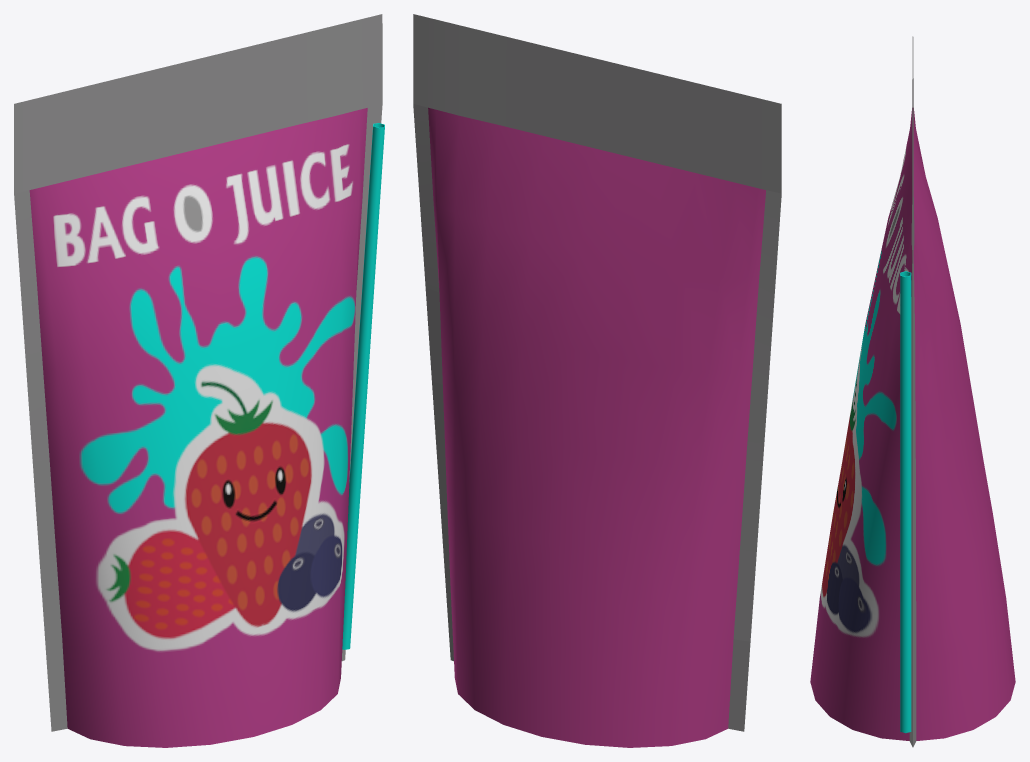
Rendered from Juice Bag Berries.fbx.
3 renders of one model, left to right at view 1: azimuth 30°, elevation 25°; view 2: azimuth 150°, elevation 25°; view 3: azimuth 270°, elevation 25°, orthographic. The views are drawn at different scales.
Visible parts, largest first — view 1: pCylinder56; view 2: pCylinder56; view 3: pCylinder56.
Part boxes in pixels (x1,y1,x2,y2): pCylinder56: (14, 14, 384, 747); pCylinder56: (413, 14, 781, 747); pCylinder56: (810, 36, 1015, 747).
Bounding box in the file's own units: 0.9992 × 1.65 × 0.5244.
Materials: 1 (1 with a texture image).
